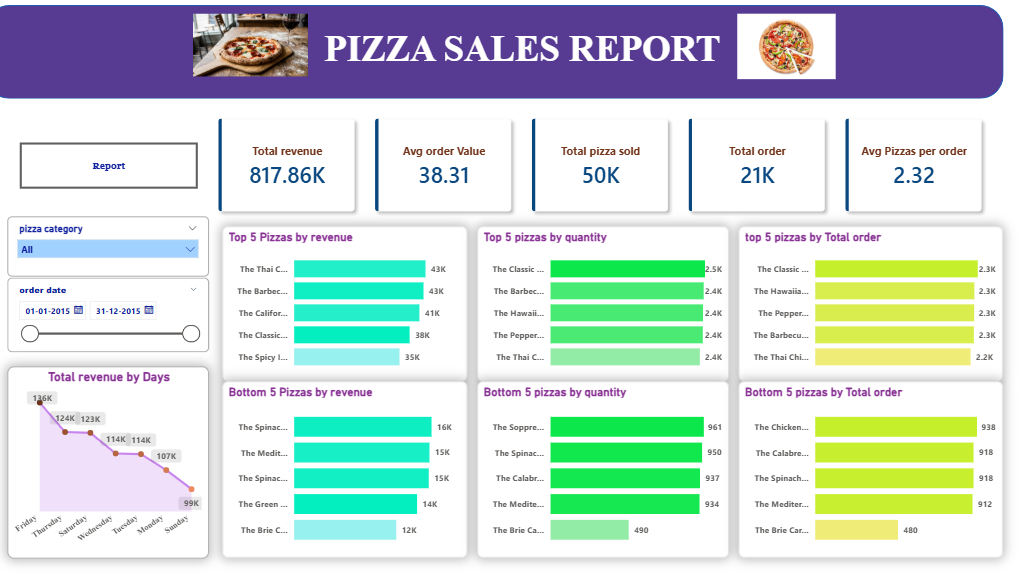

Layout of this report page (visuals, bound fields, positions):
{"tool":"powerbi","page":{"name":"Top/bottom","canvas":[1700,1000],"ordinal":1},"visuals":[{"type":"cardVisual","fields":{"Data":["pizza_sales.Total revenue","pizza_sales.Avg order Value","pizza_sales.Total pizza sold","pizza_sales.Total order","pizza_sales.Avg Pizzas per order"]},"box":[308.5,150.8,1171.2,193.2],"z":0},{"type":"shape","box":[0,14.5,1480,136.4],"z":1000},{"type":"textbox","box":[110.9,43.6,1338.2,80],"z":2000},{"type":"image","box":[289.7,27.6,191.4,91.4],"z":3000},{"type":"image","box":[1093.1,0,143.1,150],"z":4000},{"type":"slicer","fields":{"Values":["pizza_sales.pizza_category"]},"box":[30.5,322,293.2,88.1],"z":5000},{"type":"slicer","fields":{"Values":["pizza_sales.order_date"]},"box":[30.5,410.2,293.2,108.5],"z":6000},{"type":"barChart","title":"Top 5 Pizzas by revenue ","fields":{"Y":["pizza_sales.Total revenue"],"Category":["pizza_sales.pizza_name"]},"box":[343.1,336.1,356.9,226.4],"z":7000},{"type":"barChart","title":"Bottom 5 Pizzas by revenue ","fields":{"Y":["pizza_sales.Total revenue"],"Category":["pizza_sales.pizza_name"]},"box":[343.1,562.5,356.9,256.9],"z":8000},{"type":"barChart","title":"Top 5 pizzas by quantity ","fields":{"Category":["pizza_sales.pizza_name"],"Y":["Sum(pizza_sales.quantity)"]},"box":[715.3,336.1,366.7,226.4],"z":9000},{"type":"barChart","title":"Bottom 5 pizzas by quantity","fields":{"Category":["pizza_sales.pizza_name"],"Y":["Sum(pizza_sales.quantity)"]},"box":[715.3,562.5,366.7,256.9],"z":10000},{"type":"barChart","title":"top 5 pizzas by Total order ","fields":{"Category":["pizza_sales.pizza_name"],"Y":["pizza_sales.Total order"]},"box":[1094.4,336.1,384.7,226.4],"z":11000},{"type":"barChart","title":"Bottom 5 pizzas by Total order ","fields":{"Category":["pizza_sales.pizza_name"],"Y":["pizza_sales.Total order"]},"box":[1094.4,562.5,384.7,256.9],"z":12000},{"type":"areaChart","title":"Total revenue by Days","fields":{"Y":["pizza_sales.Total revenue"],"Category":["pizza_sales.Day Name"]},"box":[30.5,540.7,293.2,279.7],"z":13000},{"type":"actionButton","box":[49.2,214.8,259,67.2],"z":14000}]}

Visuals, with their boxes in screenshot pixels (x1, y1, x2, y2), scaled from the page's 1700x1000 canvas onto the 1022x587 screenshot:
cardVisual - pizza_sales.Total revenue x pizza_sales.Avg order Value: x1=185, y1=89, x2=890, y2=202
shape: x1=0, y1=9, x2=890, y2=89
textbox: x1=67, y1=26, x2=871, y2=73
image: x1=174, y1=16, x2=289, y2=70
image: x1=657, y1=0, x2=743, y2=88
slicer - pizza_sales.pizza_category: x1=18, y1=189, x2=195, y2=241
slicer - pizza_sales.order_date: x1=18, y1=241, x2=195, y2=304
"Top 5 Pizzas by revenue " barChart: x1=206, y1=197, x2=421, y2=330
"Bottom 5 Pizzas by revenue " barChart: x1=206, y1=330, x2=421, y2=481
"Top 5 pizzas by quantity " barChart: x1=430, y1=197, x2=650, y2=330
"Bottom 5 pizzas by quantity" barChart: x1=430, y1=330, x2=650, y2=481
"top 5 pizzas by Total order " barChart: x1=658, y1=197, x2=889, y2=330
"Bottom 5 pizzas by Total order " barChart: x1=658, y1=330, x2=889, y2=481
"Total revenue by Days" areaChart: x1=18, y1=317, x2=195, y2=482
actionButton: x1=30, y1=126, x2=185, y2=166
